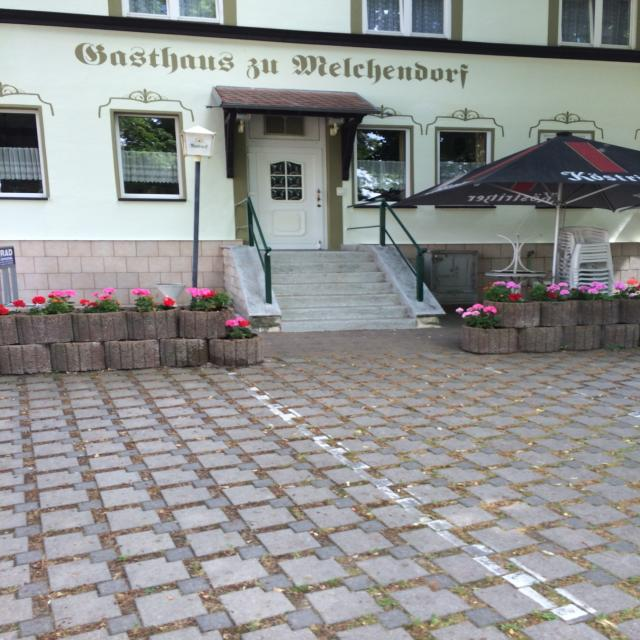AVOID: (258, 245, 416, 328)
